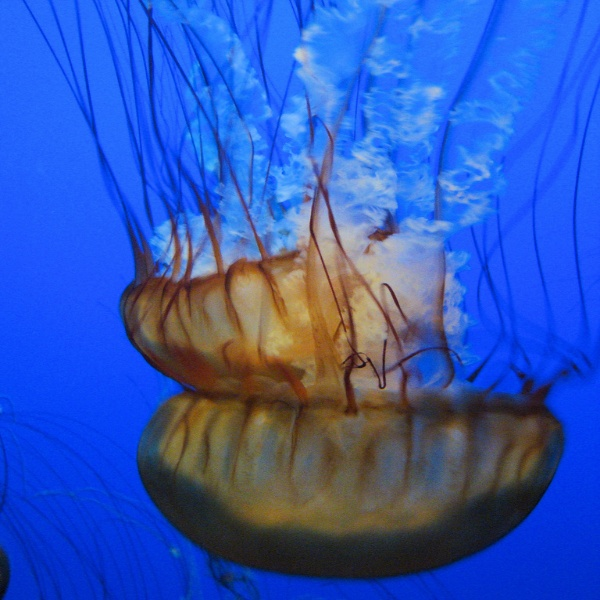Jellyfish: (6, 11, 600, 584)
